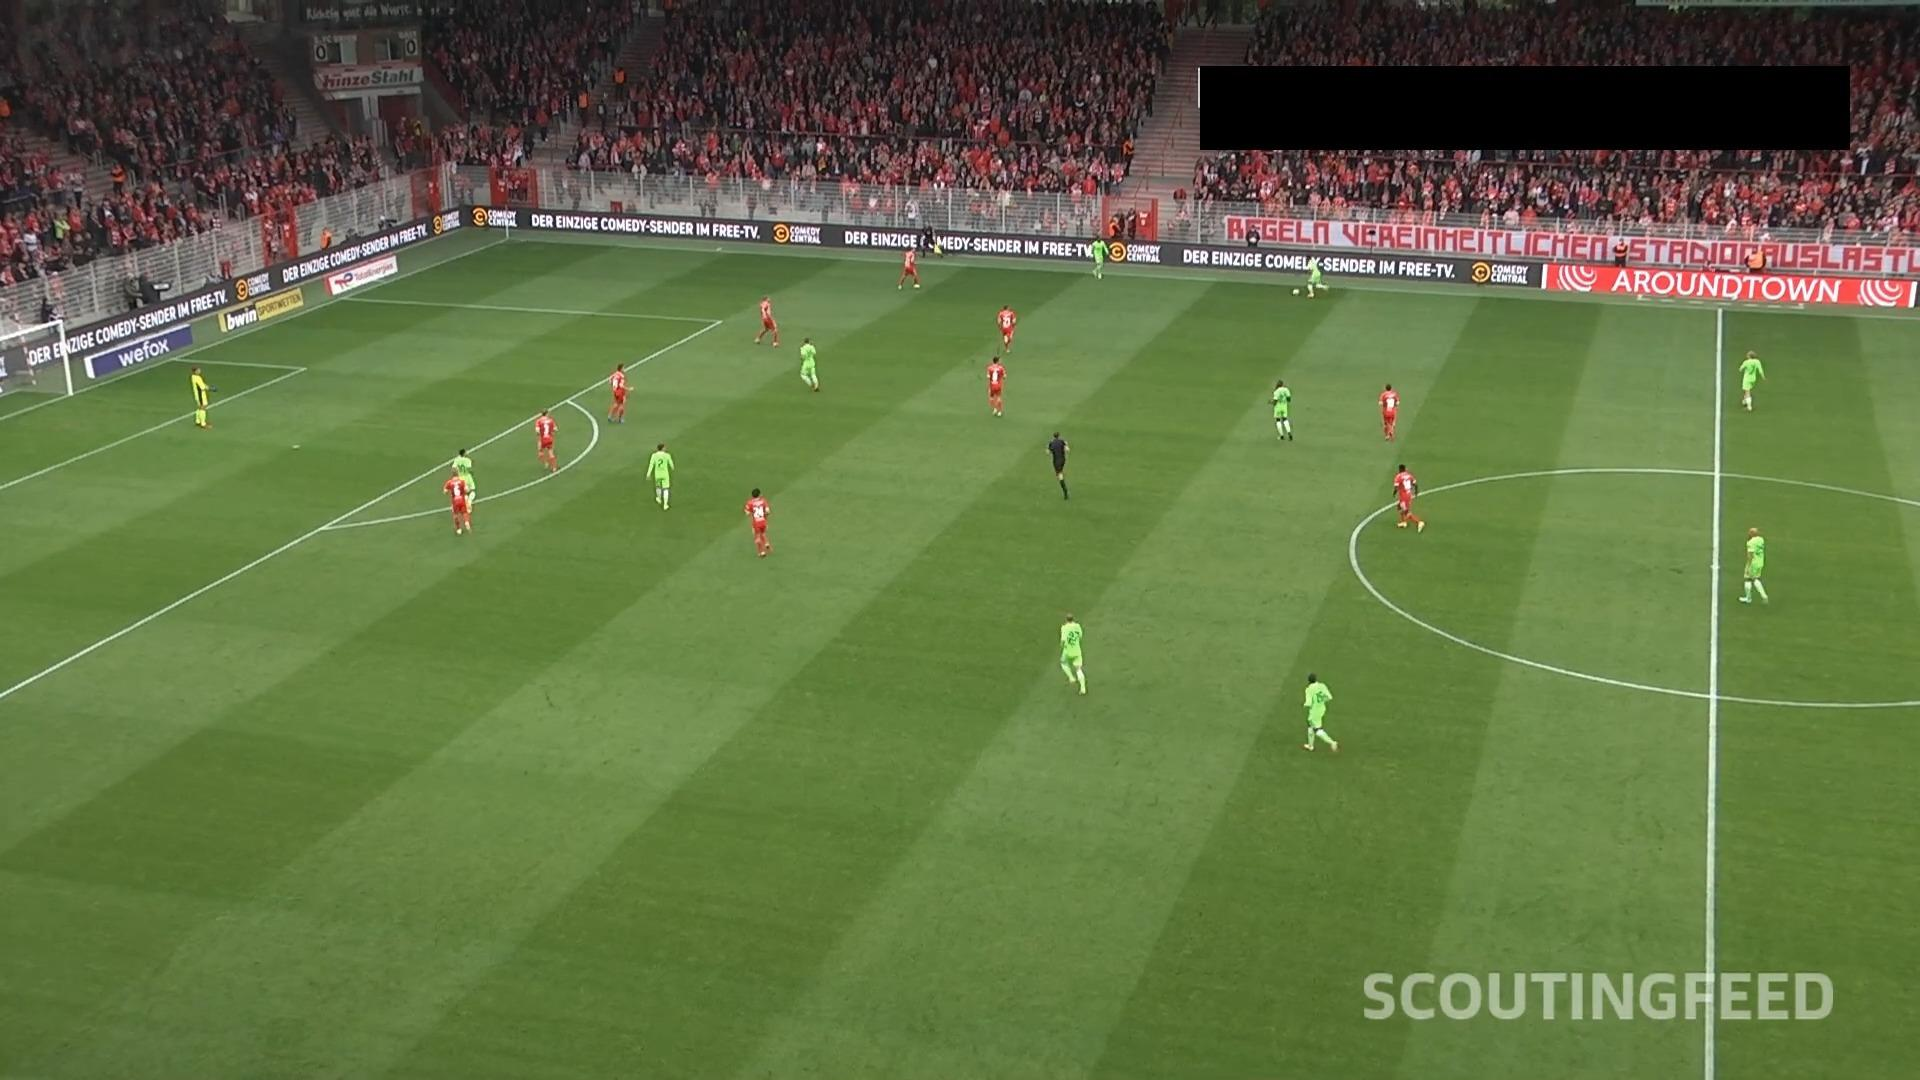ball: (1291, 286, 1302, 298)
